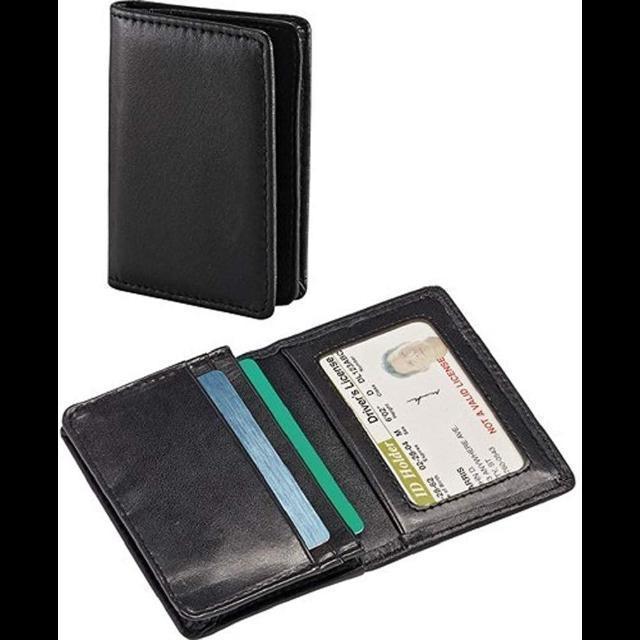wallet: (57, 287, 575, 637), (100, 0, 316, 320)
